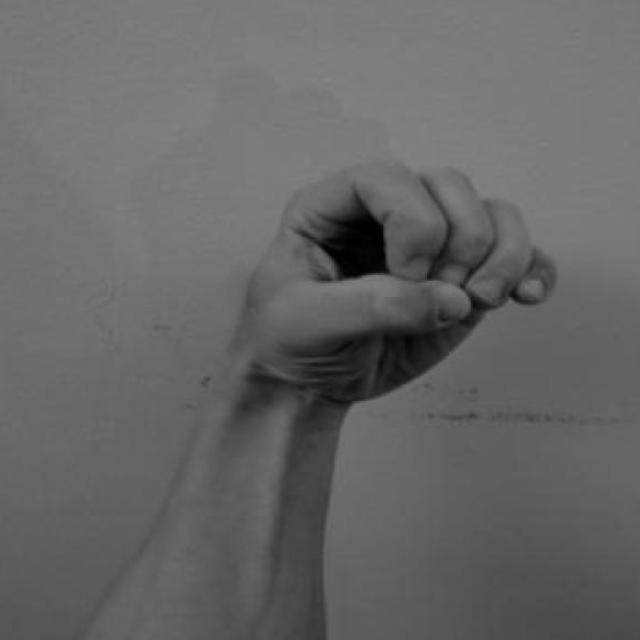O: (186, 154, 577, 436)
